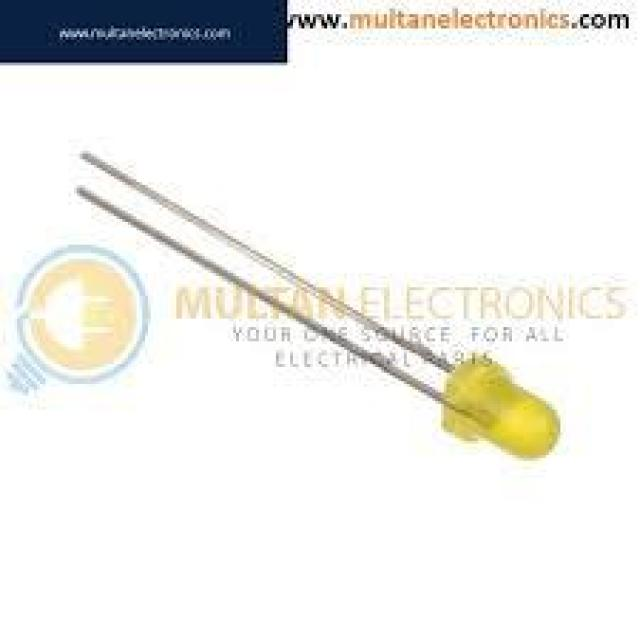Led: (81, 156, 559, 457)
